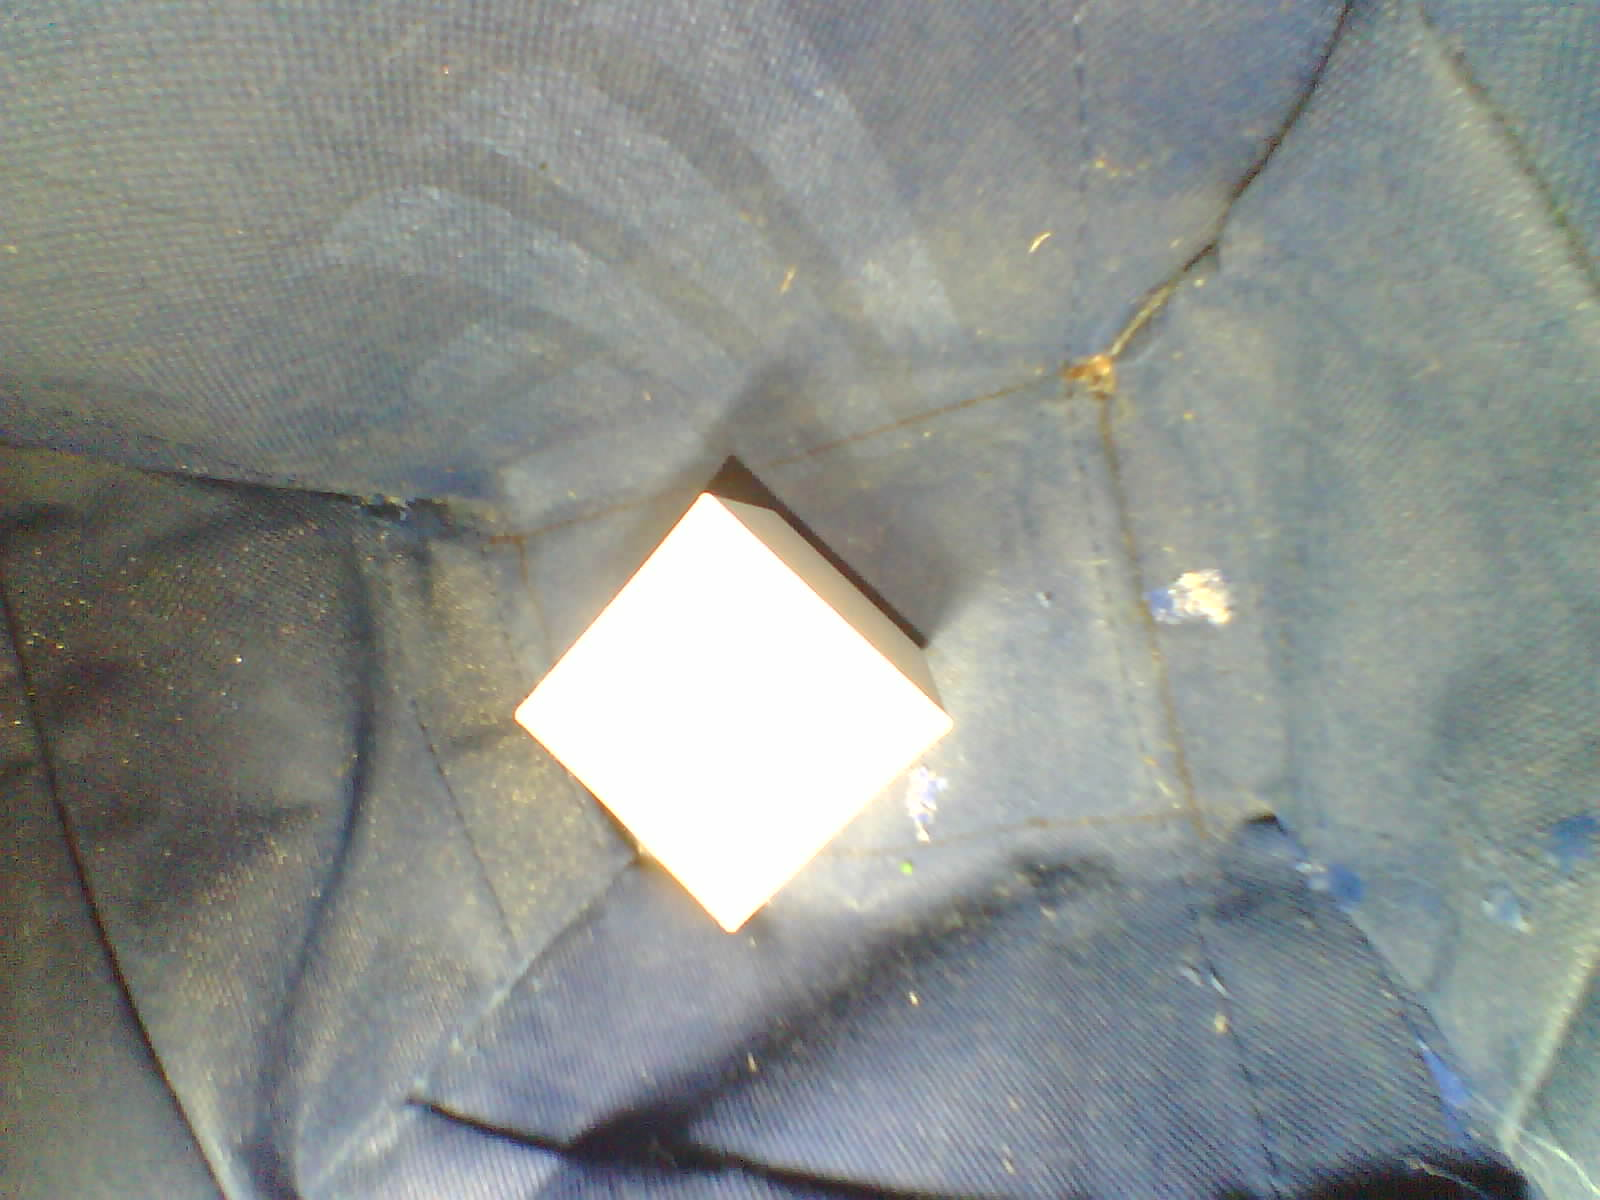cube-hard: (509, 473, 956, 945)
